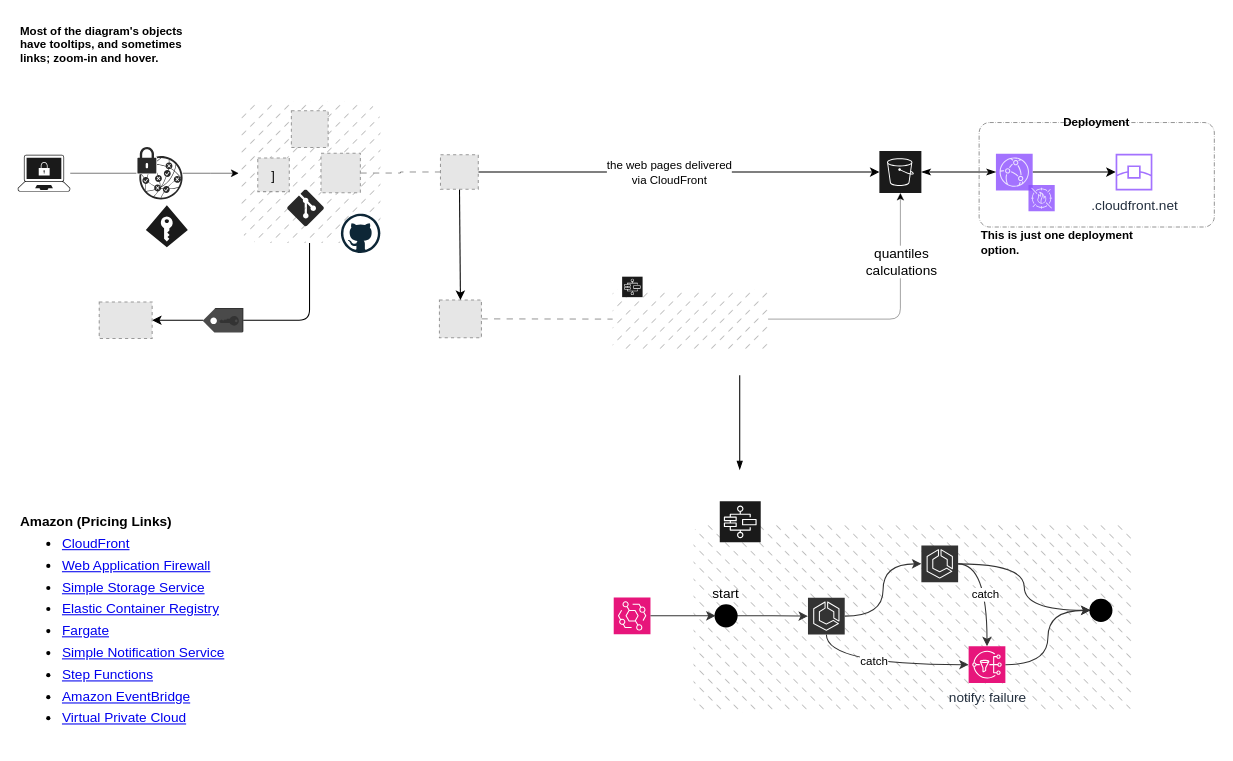
The diagram is 1233 pixels wide and 761 high, and some of its shapes have lost their labels. Grey dashed boxes stand in for pictures. Here are the shapes that lost their labels. From the top down, the centre of each, then its label:
At (939,563): "quantiles".
At (826,616): "latest daily measures".
At (1100,609): "end".
